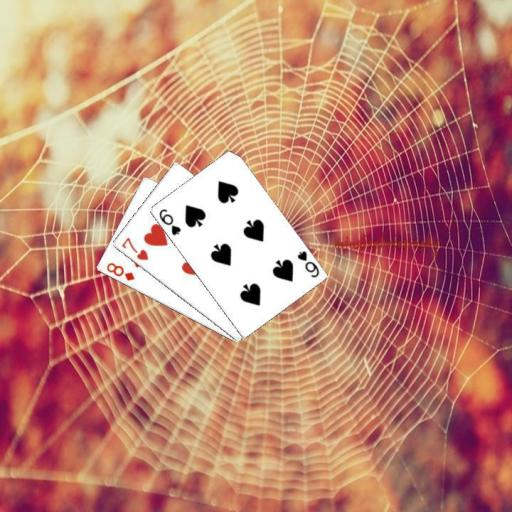card-corner: (118, 234, 150, 262), (155, 205, 182, 237), (294, 248, 320, 280), (103, 260, 136, 282)
